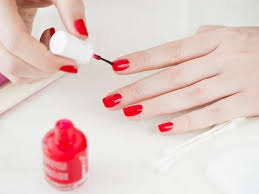nail: (72, 16, 88, 37), (122, 104, 145, 118), (101, 94, 122, 108), (57, 63, 80, 74), (112, 59, 130, 71), (158, 121, 174, 133), (49, 26, 56, 38)
